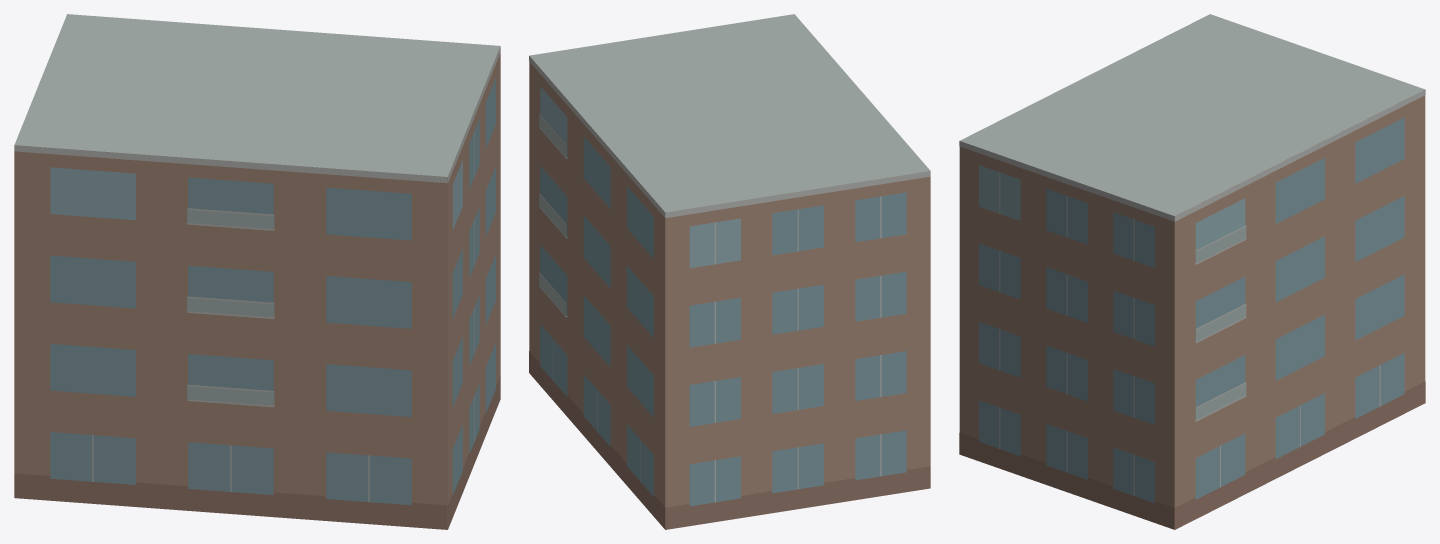
Rendered from survey-upis-33046202.glb.
The picture shows the model from 3 angles, left to right: view 1: azimuth 30°, elevation 25°; view 2: azimuth 150°, elevation 25°; view 3: azimuth 270°, elevation 25°; orthographic projection. The views are drawn at different scales.
Parts seen in each view (by area): view 1: survey-upis-33046202.tmp; view 2: survey-upis-33046202.tmp; view 3: survey-upis-33046202.tmp.
Boxes of the visible parts, left/top/right/bottom form: survey-upis-33046202.tmp: left=14, top=14, right=500, bottom=529; survey-upis-33046202.tmp: left=529, top=14, right=930, bottom=529; survey-upis-33046202.tmp: left=959, top=14, right=1425, bottom=529.
Bounding box in the file's own units: 19.03 × 13.75 × 18.52.
